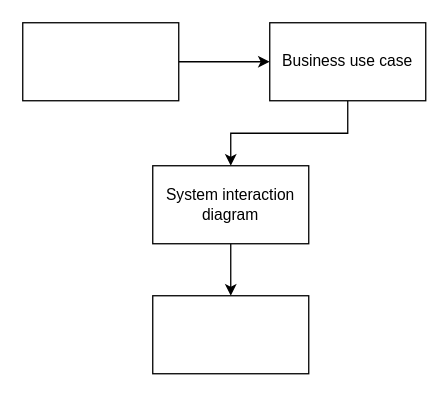
The diagram is 448 pixels wide and 397 high, and some of its shapes have lost their labels. Here are the shapes that lost their labels. From the top down, the box of each, then its label:
(21, 21, 179, 101): Business process
(151, 294, 309, 374): System use case
